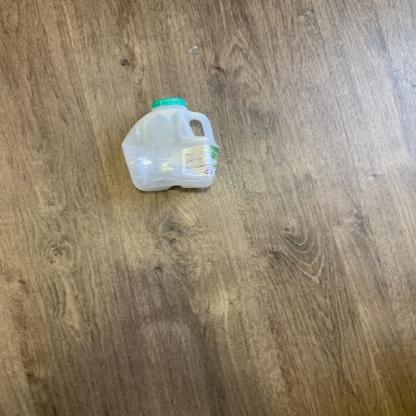trash: (119, 92, 228, 194)
